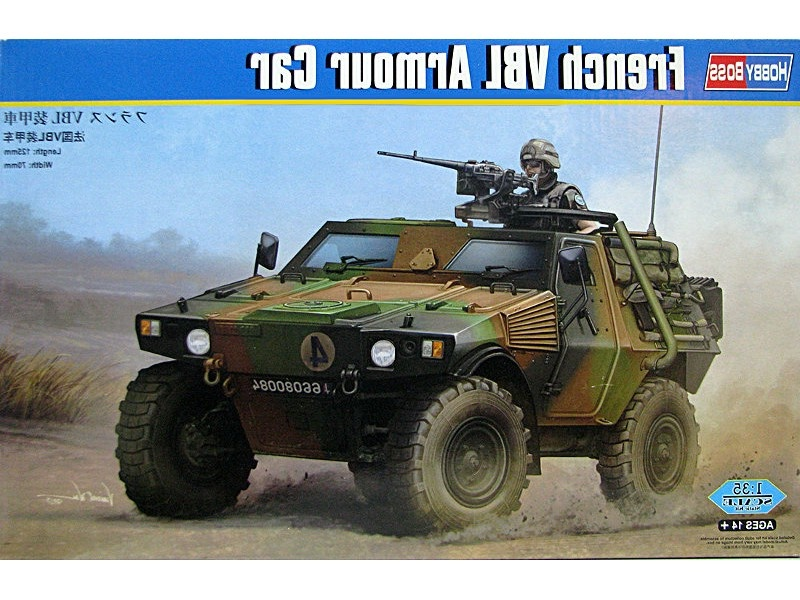license_plate: (249, 375, 325, 399)
